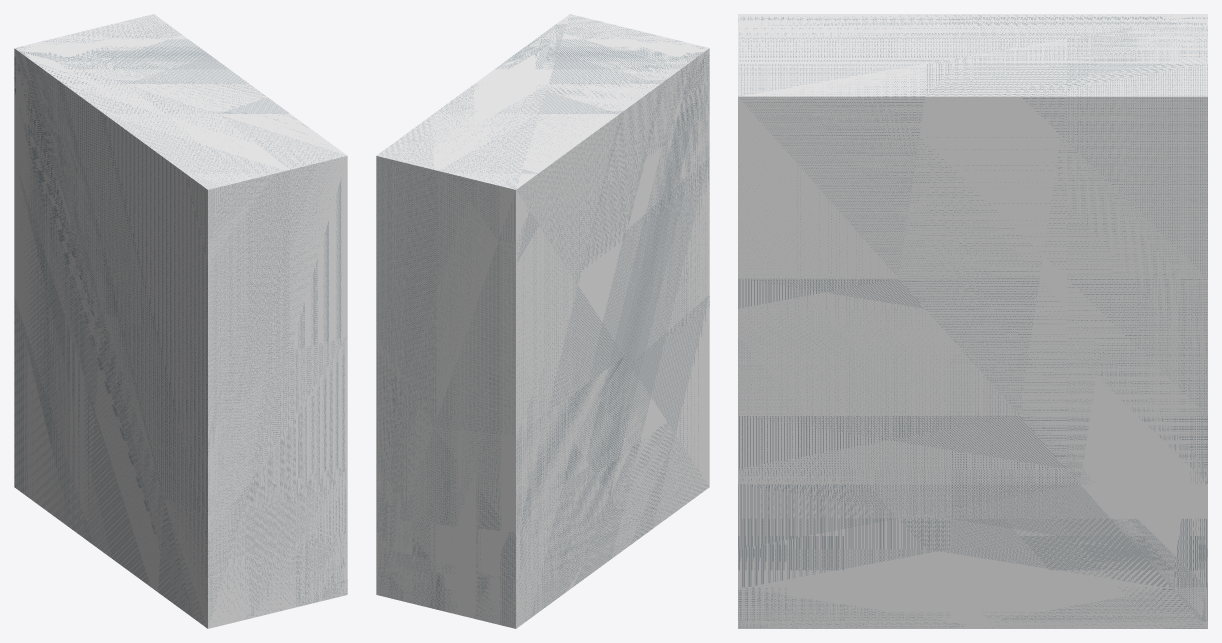
The model's file is ColPrism.obj.
The picture shows the model from 3 angles, left to right: view 1: azimuth 30°, elevation 25°; view 2: azimuth 150°, elevation 25°; view 3: azimuth 270°, elevation 25°; orthographic projection. The views are drawn at different scales.
Parts seen in each view (by area): view 1: Mesh1 Model; view 2: Mesh1 Model; view 3: Mesh1 Model.
Boxes of the visible parts, x1=… form: Mesh1 Model: x1=14, y1=14, x2=347, y2=628; Mesh1 Model: x1=376, y1=14, x2=709, y2=628; Mesh1 Model: x1=738, y1=14, x2=1207, y2=628.
Bounding box in the file's own units: 0.2 × 0.6 × 0.48.
